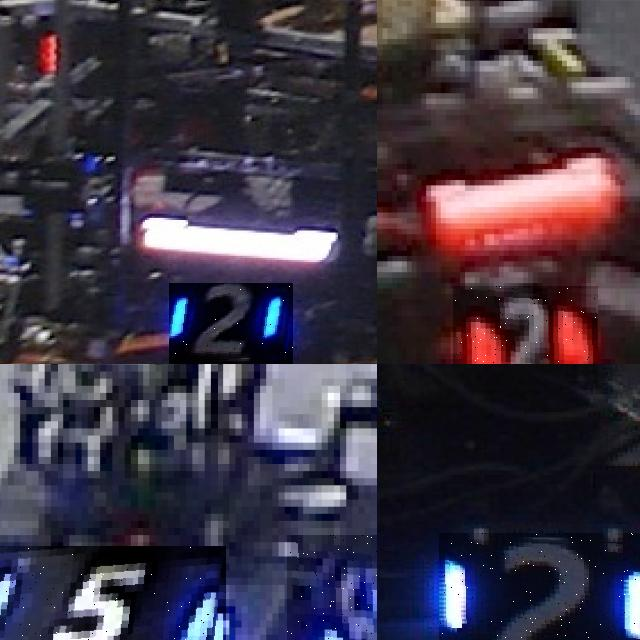B2: (439, 533, 640, 640), (168, 283, 293, 364)
B5: (0, 546, 226, 640), (287, 535, 377, 640)
R2: (452, 285, 598, 364)
